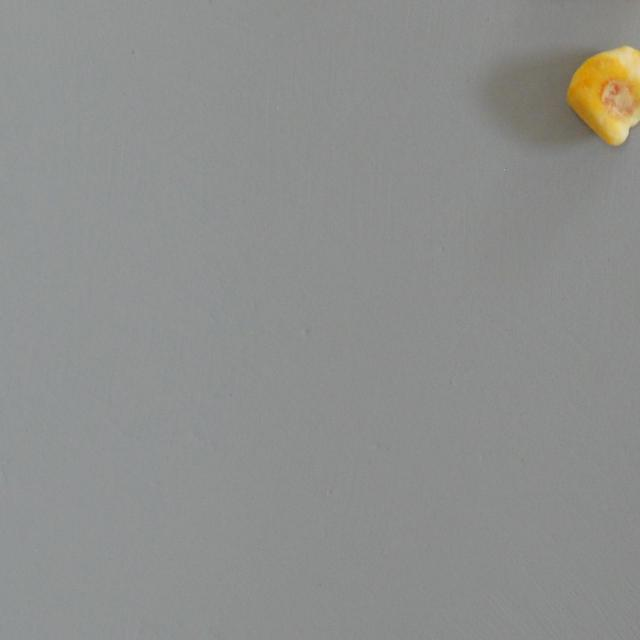dañado: (564, 44, 640, 146)
